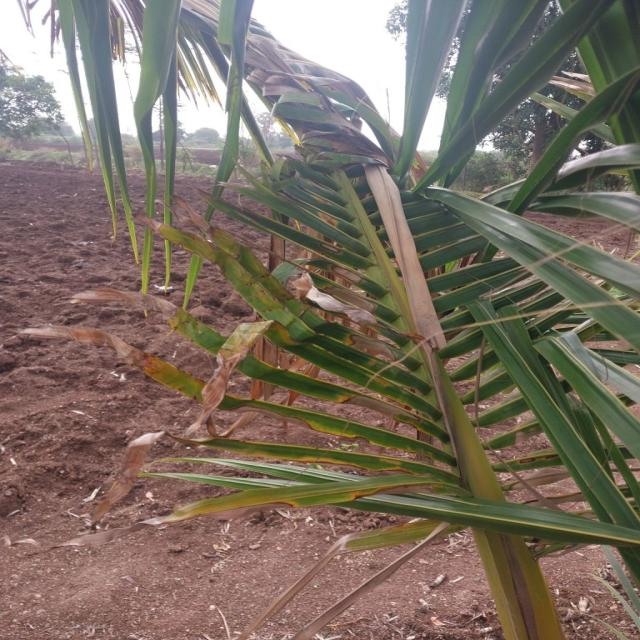leaf rot: (22, 21, 500, 600)
